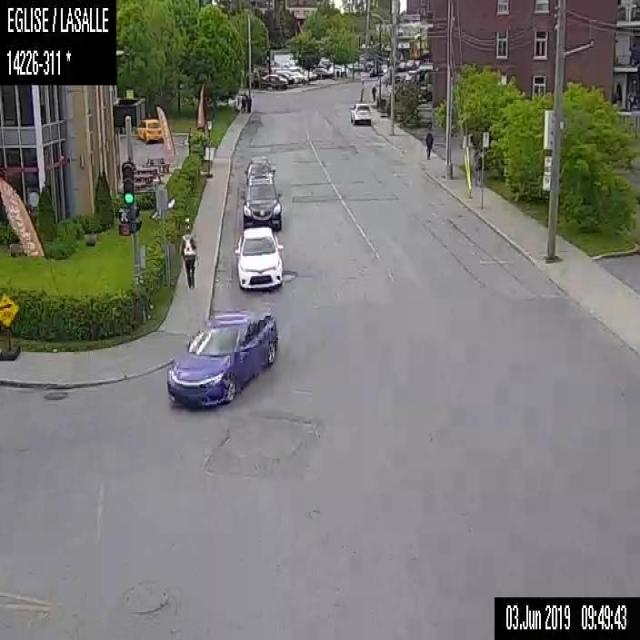pedestrian: (178, 223, 196, 289), (424, 126, 432, 158), (239, 95, 246, 116), (370, 84, 376, 101), (246, 94, 251, 114)
vehicle: (165, 311, 277, 405), (233, 224, 284, 289), (240, 177, 283, 226), (245, 154, 277, 180), (135, 116, 162, 144), (348, 101, 372, 124), (262, 72, 286, 89)
